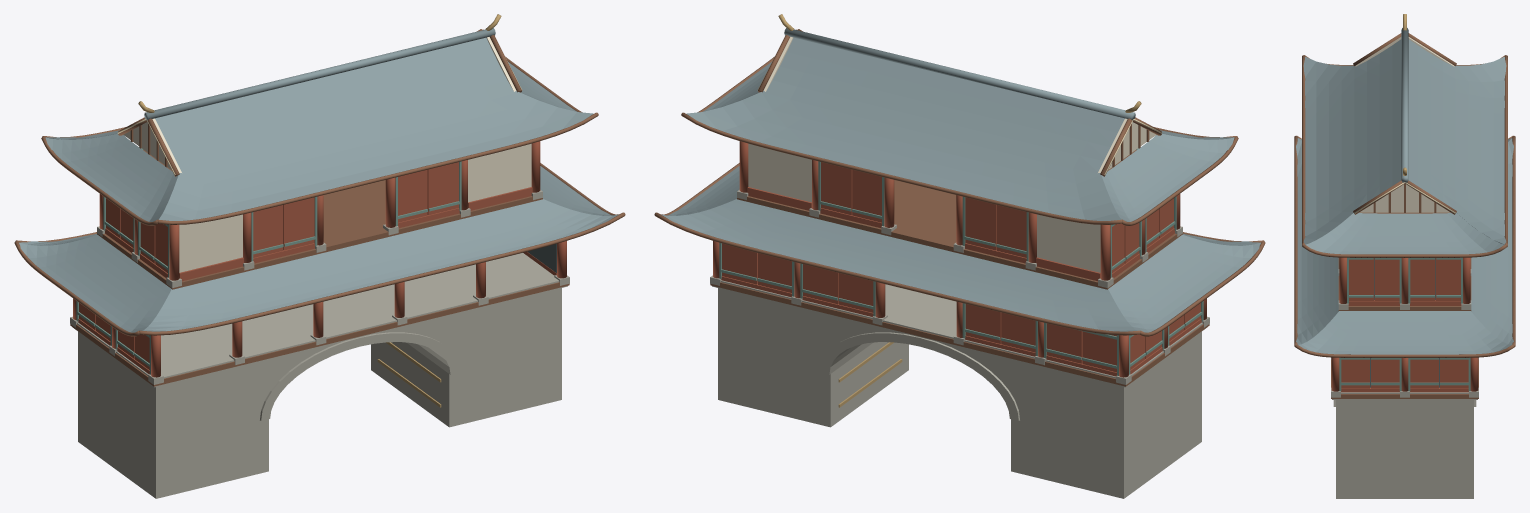
The model's file is Gate_LOD2.fbx.
3 renders of one model, left to right at view 1: azimuth 30°, elevation 25°; view 2: azimuth 150°, elevation 25°; view 3: azimuth 270°, elevation 25°, orthographic. The views are drawn at different scales.
Parts seen in each view (by area): view 1: Gate_Detail2_Roof, Gate_Detail2_Stone, Gate_Detail2_Timber, Gate_Detail2_Vermilion, Gate_Detail2_Plaster, Gate_Detail2_Jade, Gate_Detail2_Bronze; view 2: Gate_Detail2_Roof, Gate_Detail2_Stone, Gate_Detail2_Vermilion, Gate_Detail2_Timber, Gate_Detail2_Plaster, Gate_Detail2_Jade, Gate_Detail2_Bronze; view 3: Gate_Detail2_Roof, Gate_Detail2_Stone, Gate_Detail2_Vermilion, Gate_Detail2_Timber, Gate_Detail2_Jade, Gate_Detail2_Plaster.
Part boxes in pixels (x1=…): Gate_Detail2_Roof: x1=19, y1=28, x2=618, y2=332; Gate_Detail2_Stone: x1=70, y1=190, x2=569, y2=498; Gate_Detail2_Timber: x1=14, y1=29, x2=625, y2=386; Gate_Detail2_Vermilion: x1=73, y1=141, x2=566, y2=377; Gate_Detail2_Plaster: x1=123, y1=37, x2=531, y2=272; Gate_Detail2_Jade: x1=76, y1=148, x2=461, y2=374; Gate_Detail2_Bronze: x1=138, y1=14, x2=501, y2=407; Gate_Detail2_Roof: x1=661, y1=28, x2=1260, y2=332; Gate_Detail2_Stone: x1=710, y1=190, x2=1209, y2=498; Gate_Detail2_Vermilion: x1=713, y1=141, x2=1206, y2=377; Gate_Detail2_Timber: x1=654, y1=29, x2=1265, y2=386; Gate_Detail2_Plaster: x1=748, y1=37, x2=1156, y2=272; Gate_Detail2_Jade: x1=719, y1=148, x2=1203, y2=375; Gate_Detail2_Bronze: x1=778, y1=14, x2=1141, y2=407; Gate_Detail2_Roof: x1=1296, y1=28, x2=1513, y2=354; Gate_Detail2_Stone: x1=1331, y1=269, x2=1478, y2=498; Gate_Detail2_Vermilion: x1=1331, y1=257, x2=1478, y2=392; Gate_Detail2_Timber: x1=1294, y1=33, x2=1515, y2=398; Gate_Detail2_Jade: x1=1339, y1=257, x2=1470, y2=391; Gate_Detail2_Plaster: x1=1355, y1=37, x2=1454, y2=212.
Size of the model in its own units: 32.44 by 23.07 by 14.44.
